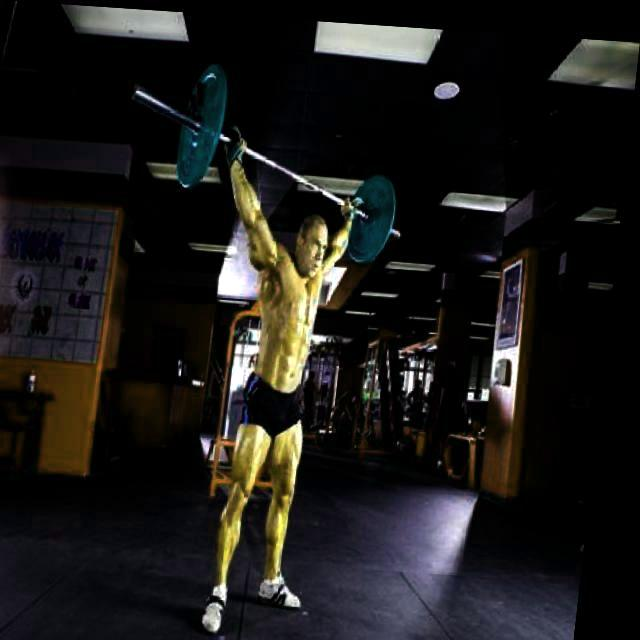barbell: (121, 53, 235, 193)
